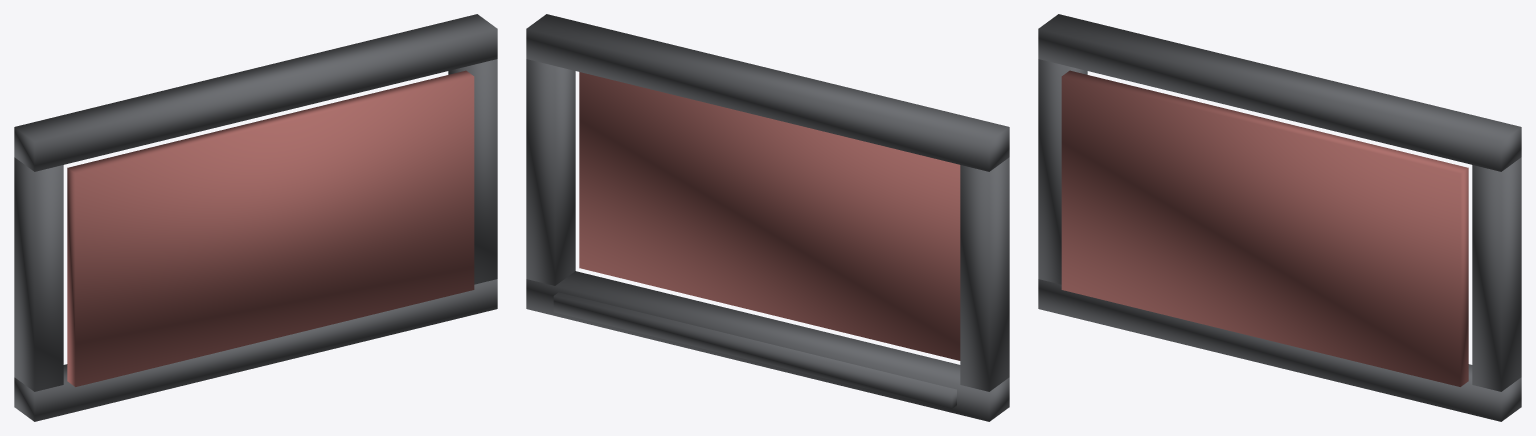
File: on_air_wall_sign__reinforced.glb
3 views of the same model, side by side, from view 1: azimuth 30°, elevation 25°; view 2: azimuth 150°, elevation 25°; view 3: azimuth 330°, elevation 25° (orthographic).
Parts seen in each view (by area): view 1: world; view 2: world; view 3: world.
Boxes of the visible parts, x1,y1,x2,y2 form: world: (14,14,497,421); world: (526,14,1009,421); world: (1038,14,1521,421).
Size of the model in its own units: 0.7416 by 0.4284 by 0.0945.
